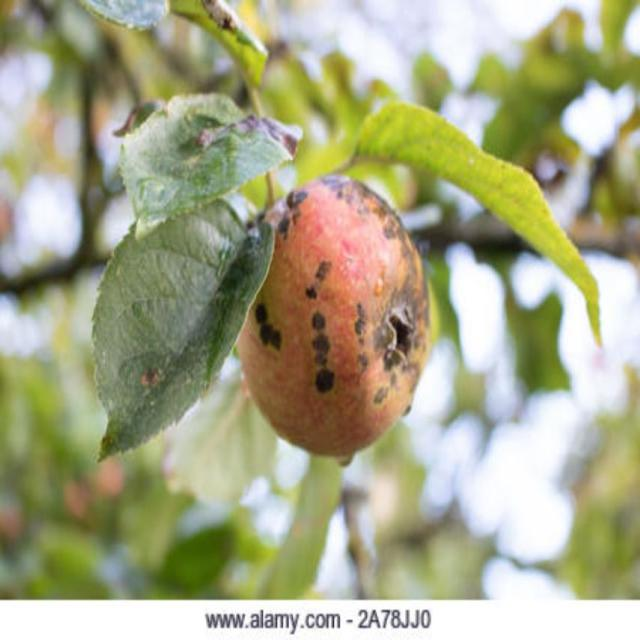Rotten Apple: (217, 135, 451, 462)
